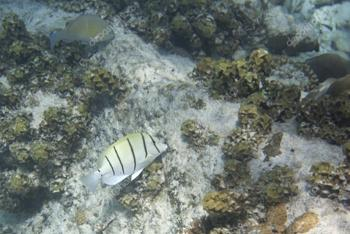Acanthuridae -Surgeonfishes-: (77, 131, 170, 196)
